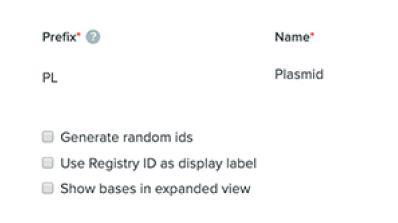checkbox: (42, 131, 55, 145), (42, 156, 55, 170), (42, 183, 56, 196)
icon: (85, 28, 104, 49)
label: (61, 156, 260, 172), (60, 182, 254, 196), (62, 130, 196, 147), (40, 27, 85, 48), (274, 29, 320, 47)
